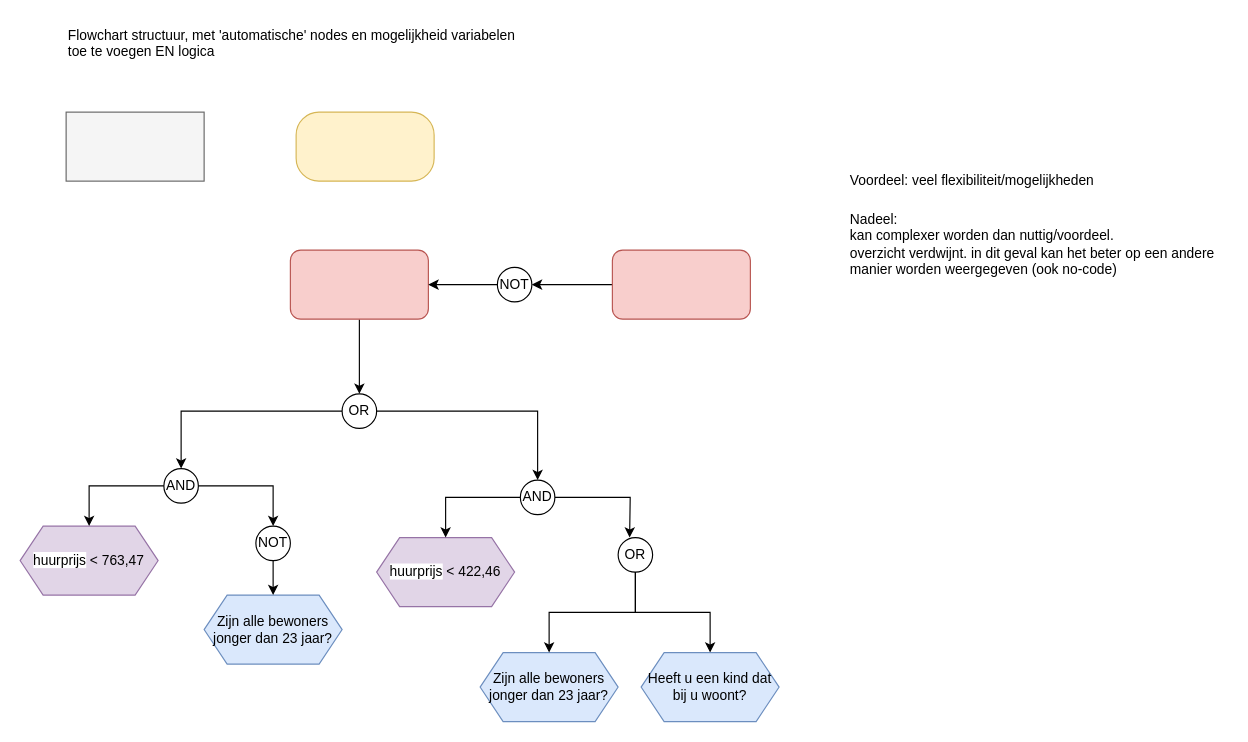
The diagram is 1248 pixels wide and 742 high, and some of its shapes have lost their labels. Each missing label, with the centre of its shape:
"Wat is uw huurprijs?" - huurprijs: number: the point at 134,146
Kan ik huurtoeslag krijgen?: the point at 364,146
U kunt geen huurtoeslag krijgen (als): the point at 680,284
U kunt wel huurtoeslag krijgen (als): the point at 358,284
